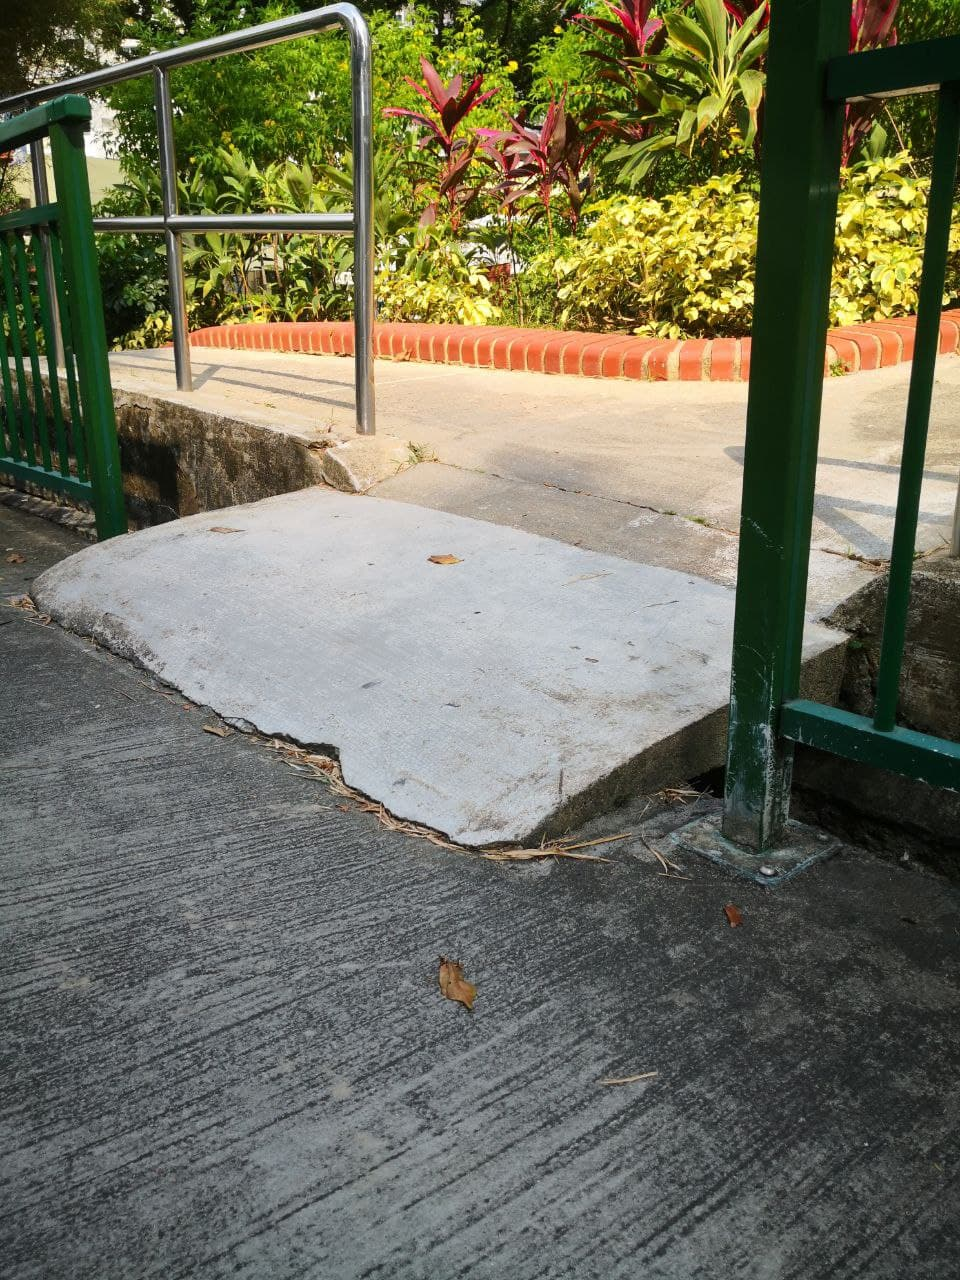slopes: (24, 468, 875, 875)
